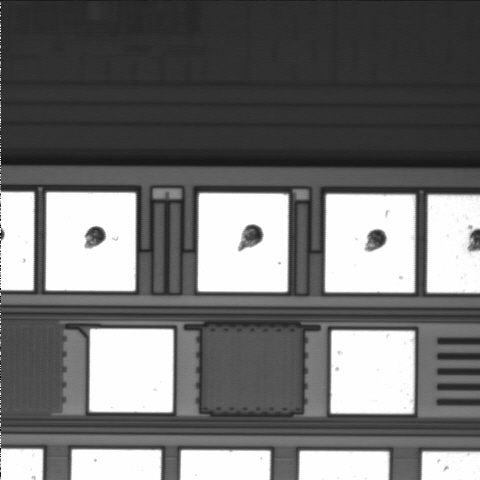pad: (46, 192, 136, 291), (198, 193, 288, 292), (325, 194, 415, 292), (89, 329, 173, 412), (331, 331, 414, 414)
